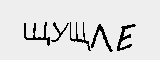Е: (115, 20, 138, 53)
Л: (91, 21, 114, 54)
У: (51, 18, 69, 44)
Щ: (22, 18, 52, 47), (67, 17, 91, 52)
